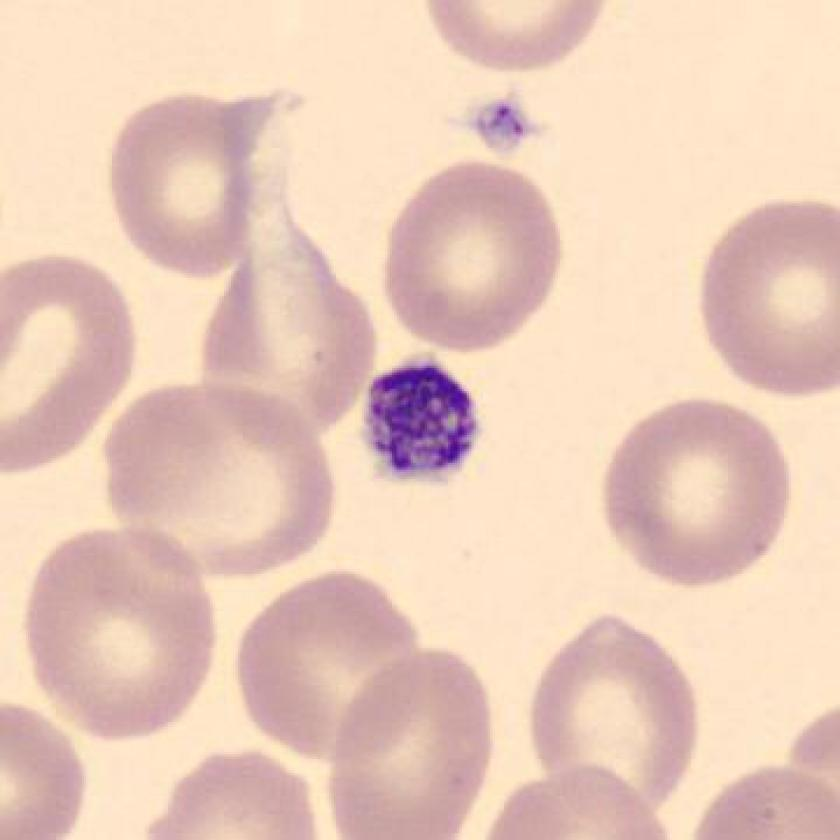platelets: (349, 346, 484, 487), (456, 84, 556, 168)
